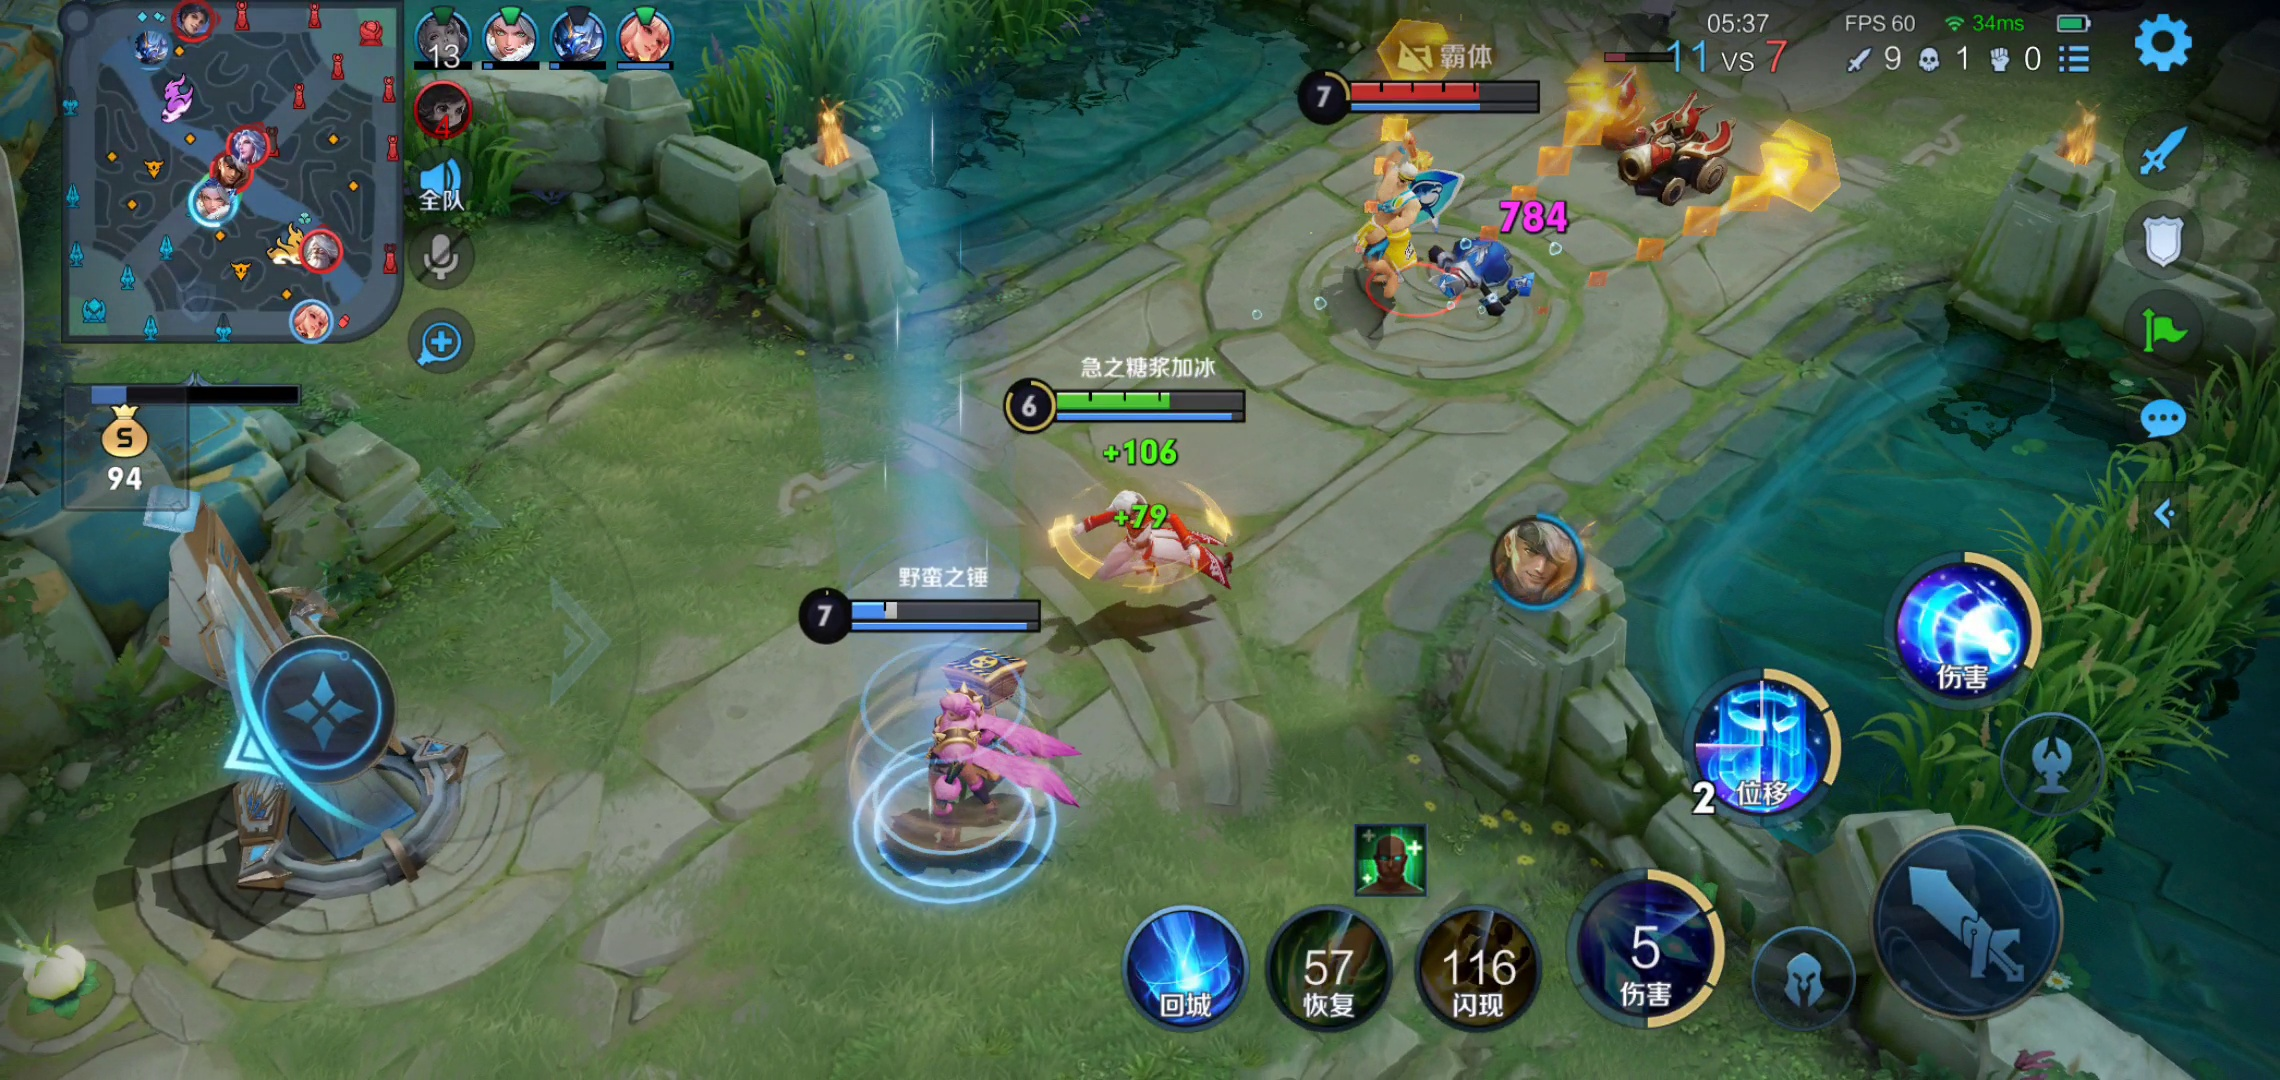grass: (1887, 384, 2279, 843), (657, 7, 1131, 151)
hero: (819, 648, 1077, 887), (1060, 464, 1269, 640), (1323, 132, 1429, 307)
soldier: (1592, 76, 1723, 218), (1440, 225, 1537, 318)
tower: (124, 485, 497, 922)
